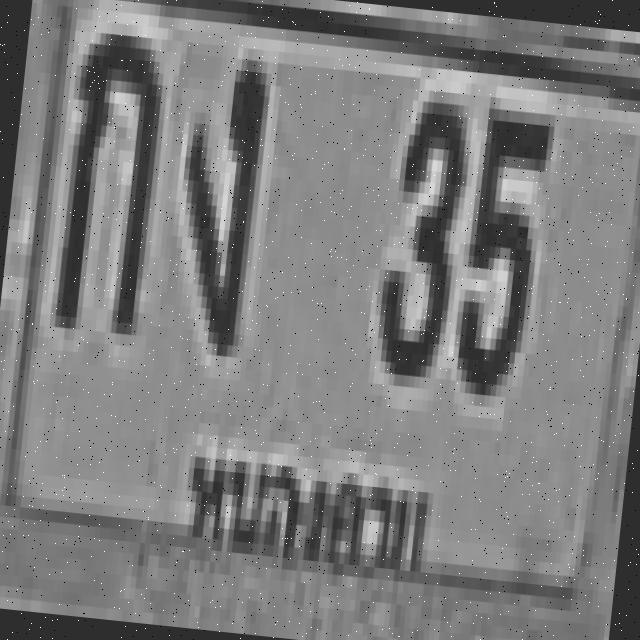10GorGai: (50, 19, 163, 323)
16NgorNgu: (169, 43, 266, 345)
3: (368, 88, 469, 378)
5: (450, 96, 551, 387)
NongKhai: (168, 422, 448, 604)
